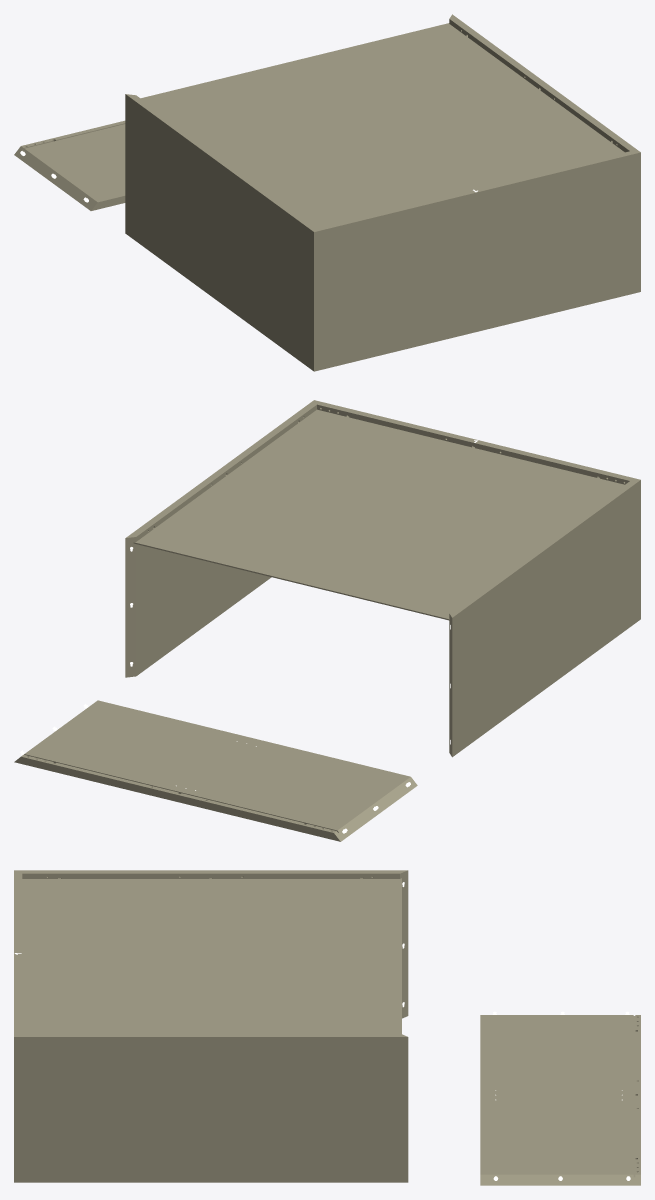
File: Etapes_6.glb
3 renders of one model, top to bottom at view 1: azimuth 30°, elevation 25°; view 2: azimuth 150°, elevation 25°; view 3: azimuth 270°, elevation 25°, orthographic. The views are drawn at different scales.
Parts seen in each view (by area): view 1: Cube.004, Cube.002, Cube.001, Cube.003, Cube; view 2: Cube.004, Cube.001, Cube.003, Cube, Cube.002; view 3: Cube, Cube.004, Cube.003, Cube.001, Cube.002.
Boxes of the visible parts, x1,y1,x2,y2 form: Cube.004: (141,23,624,227); Cube.002: (314,151,640,371); Cube.001: (125,94,316,371); Cube.003: (14,120,125,210); Cube: (449,14,640,152); Cube.004: (133,409,624,620); Cube.001: (449,480,640,757); Cube.003: (14,700,417,841); Cube: (125,400,316,677); Cube.002: (314,400,640,484); Cube: (14,1033,408,1182); Cube.004: (22,878,401,1033); Cube.003: (480,1011,640,1185); Cube.001: (14,870,408,1018); Cube.002: (14,870,22,1036).
Bounding box in the file's own units: 0.76 × 0.3192 × 1.21.
